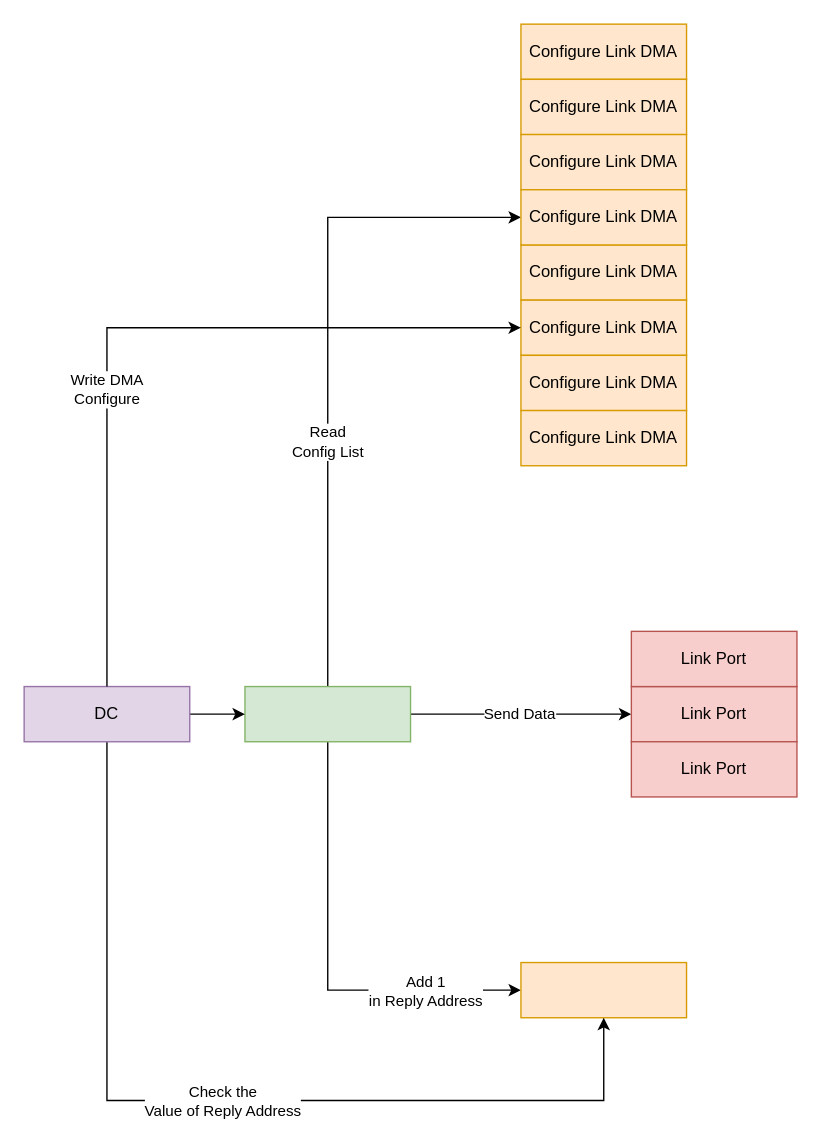
Some shapes in this 821 by 1143 pixel diagram are drawn without their labels. The shapes that lost their labels are listed below. From the top down, each one's centre as x and y in pixels, then its label:
[327,713]: DMA Engine
[603,989]: Atomic +1
